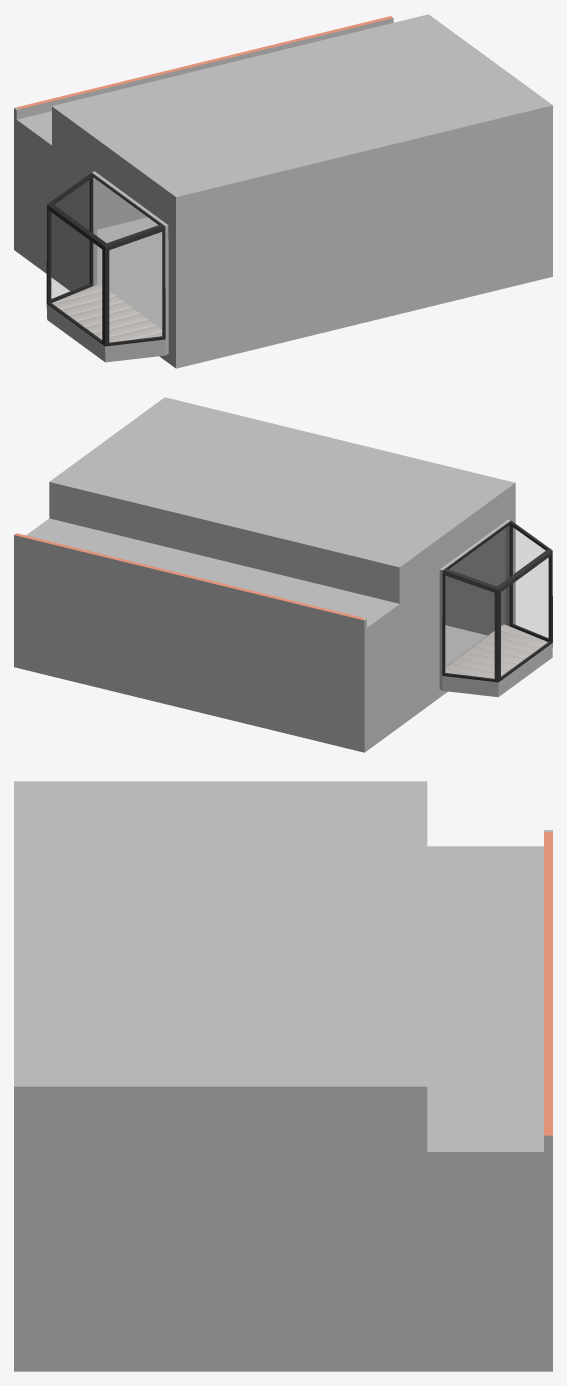
Rendered from Room N.fbx.
3 views of the same model, one above another, from view 1: azimuth 30°, elevation 25°; view 2: azimuth 150°, elevation 25°; view 3: azimuth 270°, elevation 25° (orthographic). The views are drawn at different scales.
Visible parts, largest first — view 1: wall 3, ceiling 1, wall 4, wall 1, flooring 1, window matress 1; view 2: wall 1, ceiling 1, wall 4, wall 3, window matress 1, flooring 1; view 3: wall 2, ceiling 1, wall 1, wall 4.
Boxes of the visible parts, box(x1,y1,x2,y2) form: wall 3: box(178, 105, 552, 367); ceiling 1: box(54, 14, 552, 196); wall 4: box(14, 106, 178, 368); wall 1: box(17, 16, 393, 229); flooring 1: box(97, 217, 162, 328); window matress 1: box(52, 284, 162, 342); wall 1: box(14, 482, 397, 751); ceiling 1: box(49, 397, 512, 566); wall 4: box(362, 482, 552, 752); wall 3: box(445, 528, 505, 635); window matress 1: box(445, 624, 547, 678); flooring 1: box(445, 625, 487, 666); wall 2: box(14, 1086, 552, 1371); ceiling 1: box(14, 783, 427, 1086); wall 1: box(427, 832, 552, 1151); wall 4: box(14, 781, 552, 848).
Bounding box in the file's own units: 6 × 9.25 × 3.5.
